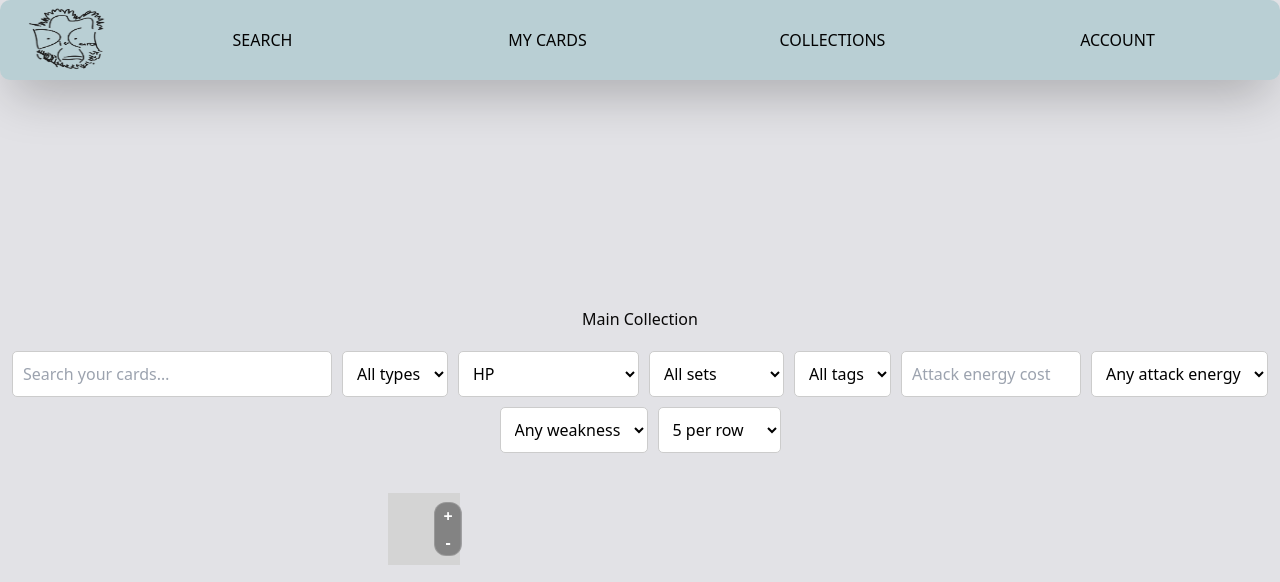
Scenario: MyCards › removes card from the page when the remove button is clicked
This screenshot has width=1280, height=582.
(page scrolled)
Step 1. Click the button titled "Remove one" → (448, 542), box [435, 529, 461, 555]
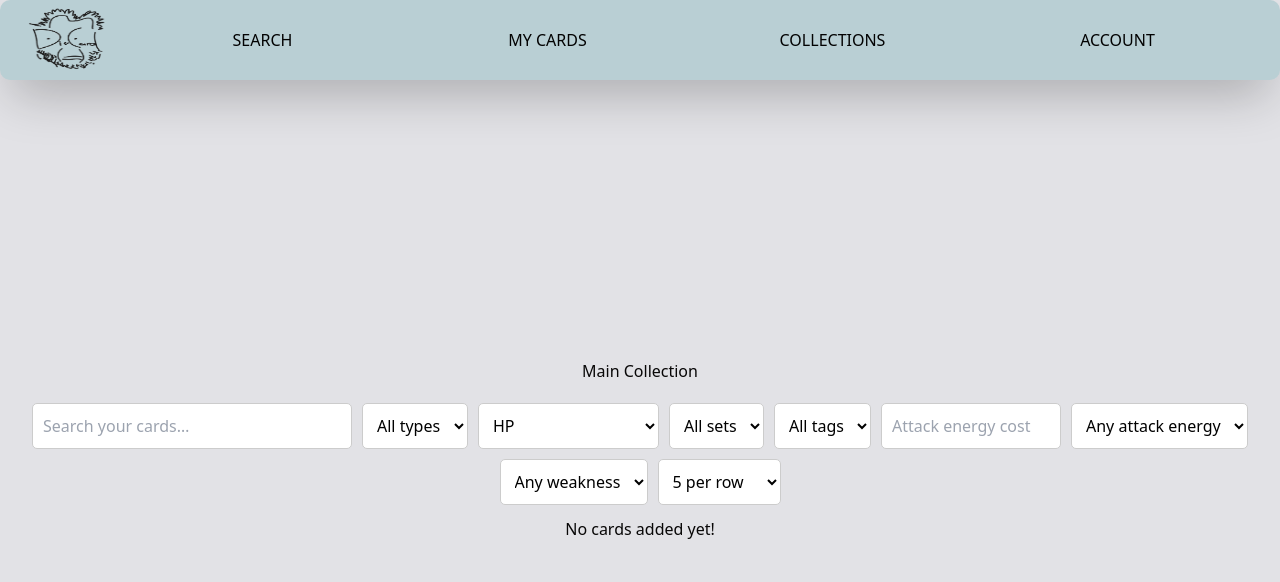
expect the picture "Gardevoir" is gone: met
